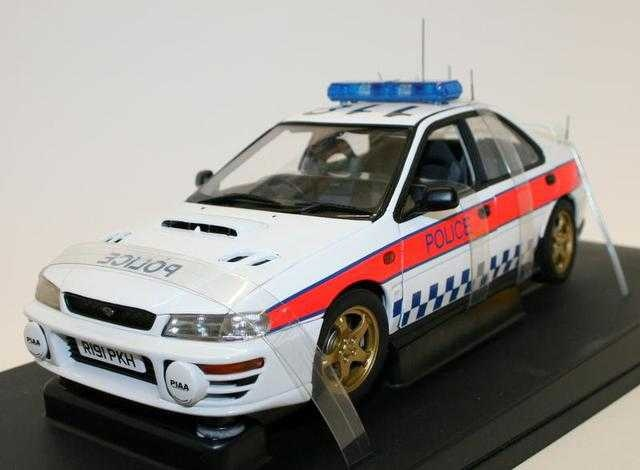Police Car: (16, 36, 623, 406)
